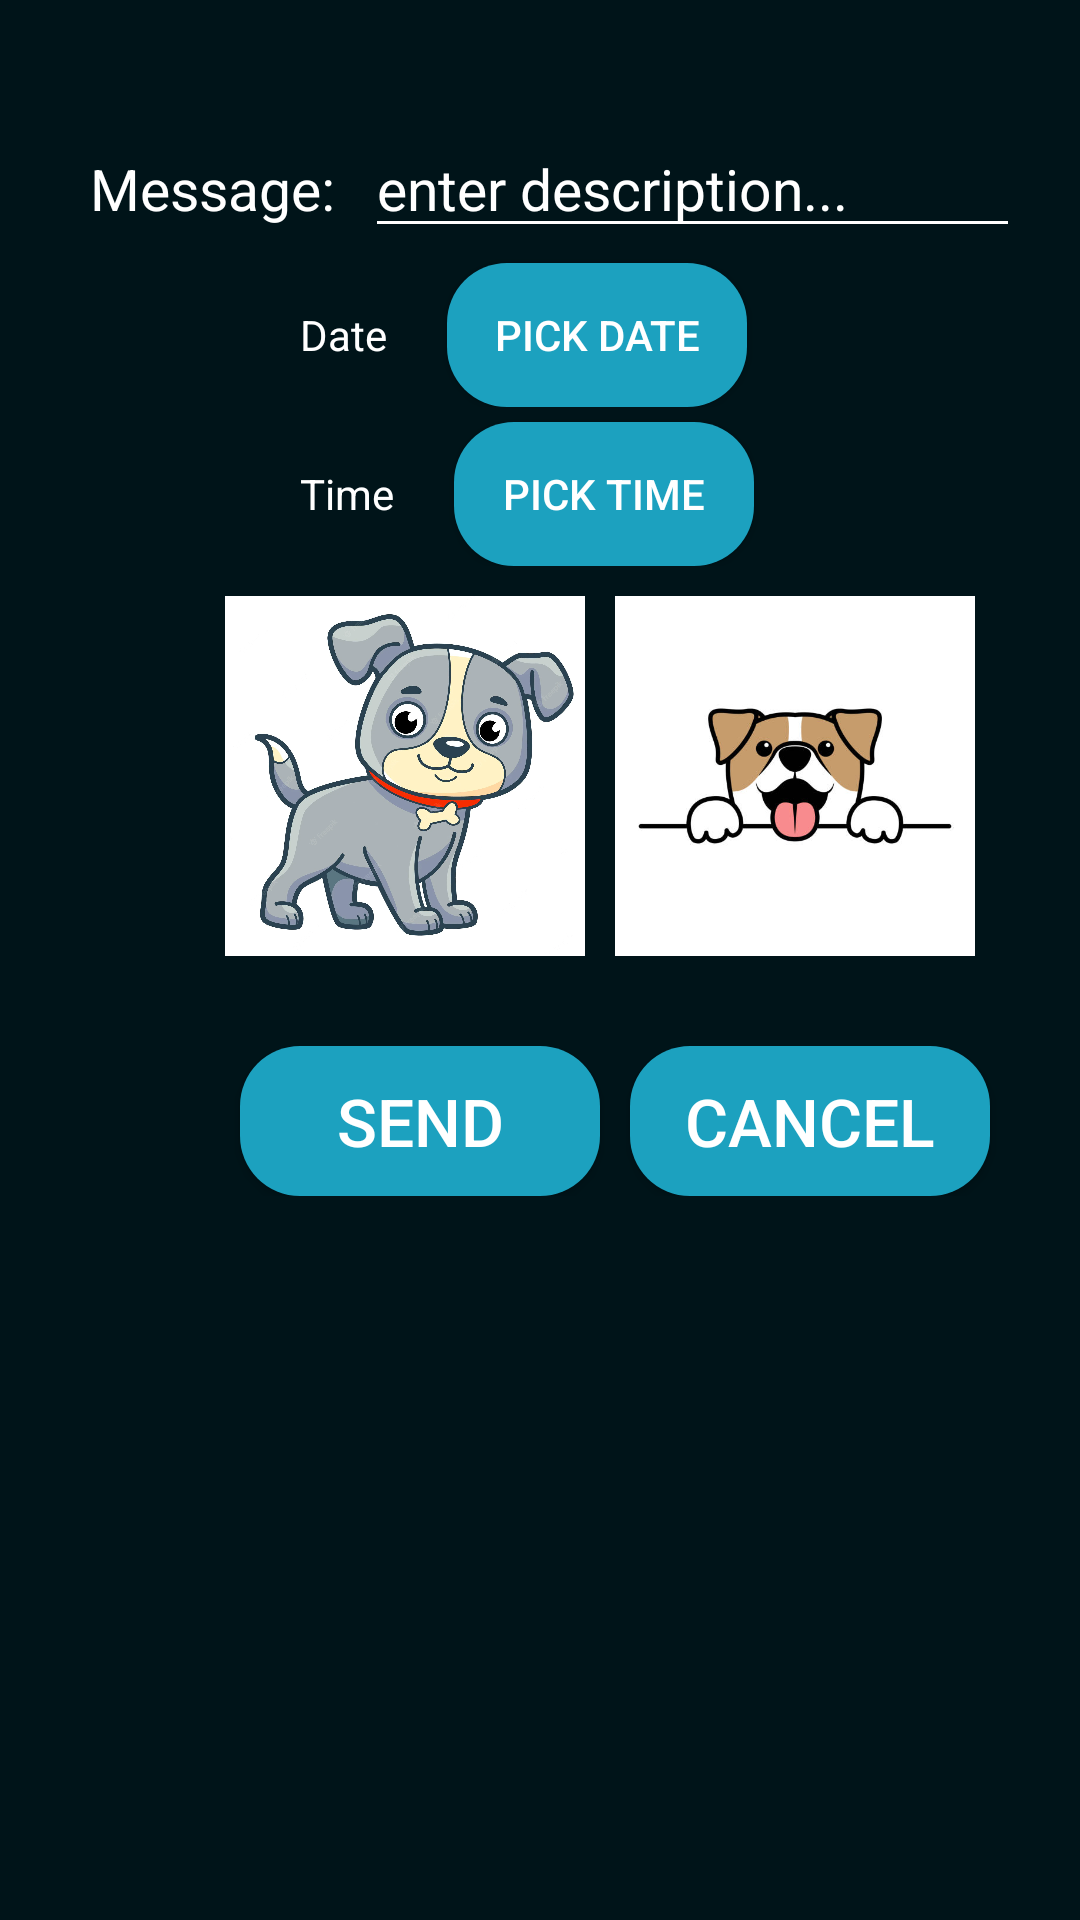

Where to tap for icons on this 1080×1920 app screen, as point (x, y):
littledog: point (405, 776)
littledogsquare: point (795, 776)
